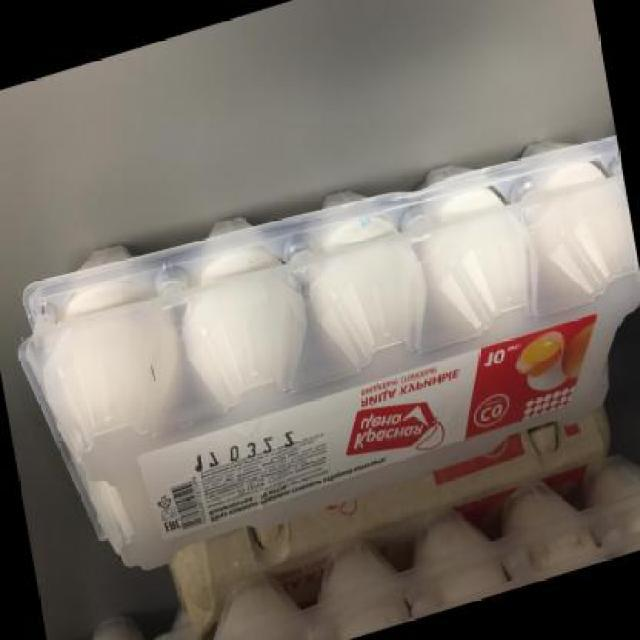egg: (0, 88, 640, 598)
